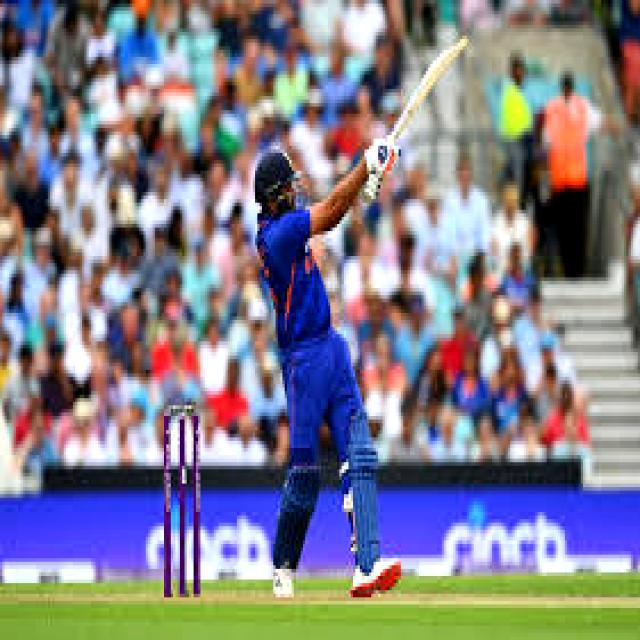toe: (453, 36, 468, 61)
